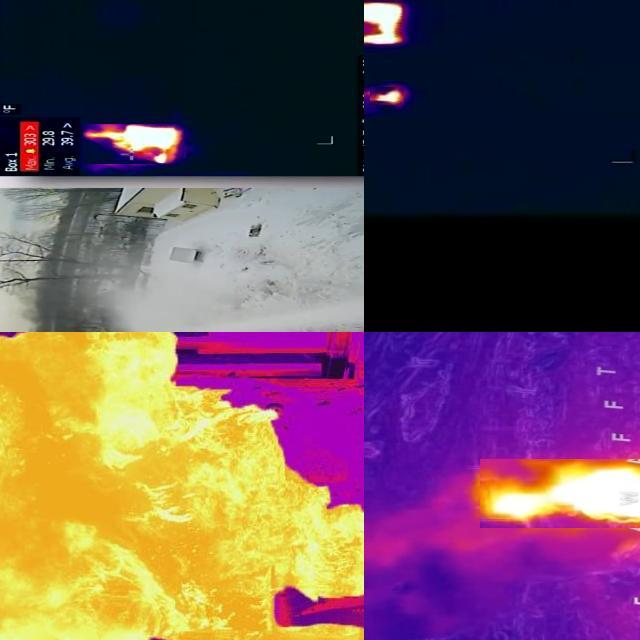fire: (1, 330, 367, 640), (494, 459, 640, 530), (83, 124, 185, 164), (365, 1, 408, 46), (371, 87, 405, 105)
